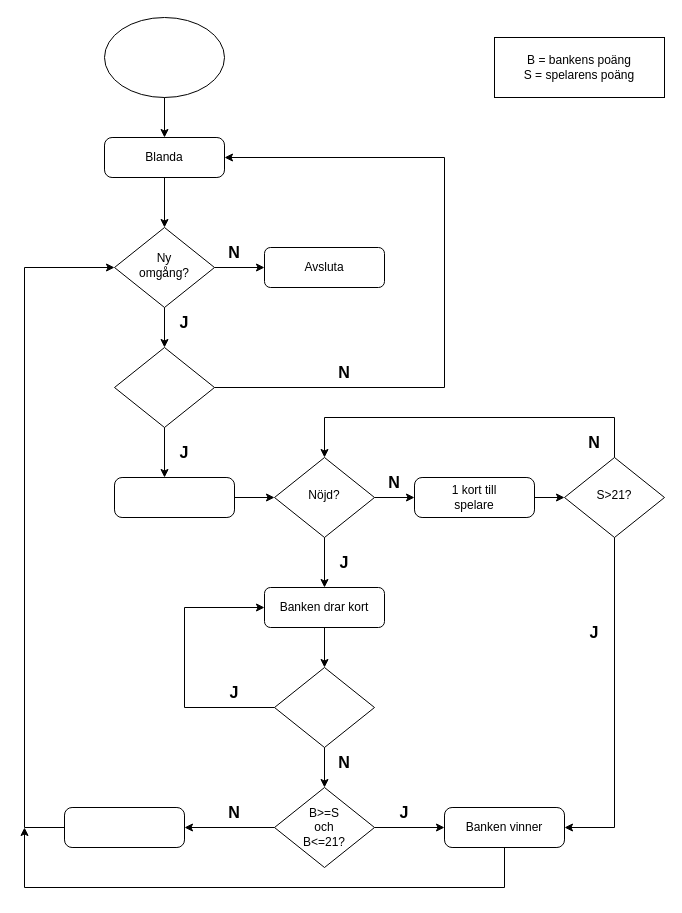
This 682x913 diagram has some shape labels left out. The shapes that lost their labels are listed below. From the top down, each one's centre as x and y in pixels, then its label:
point 164,57: Spela 21
point 164,387: Tillräckligt med kort?
point 174,497: 2 kort till spelare
point 324,707: B<17?
point 124,827: Spelaren vinner
